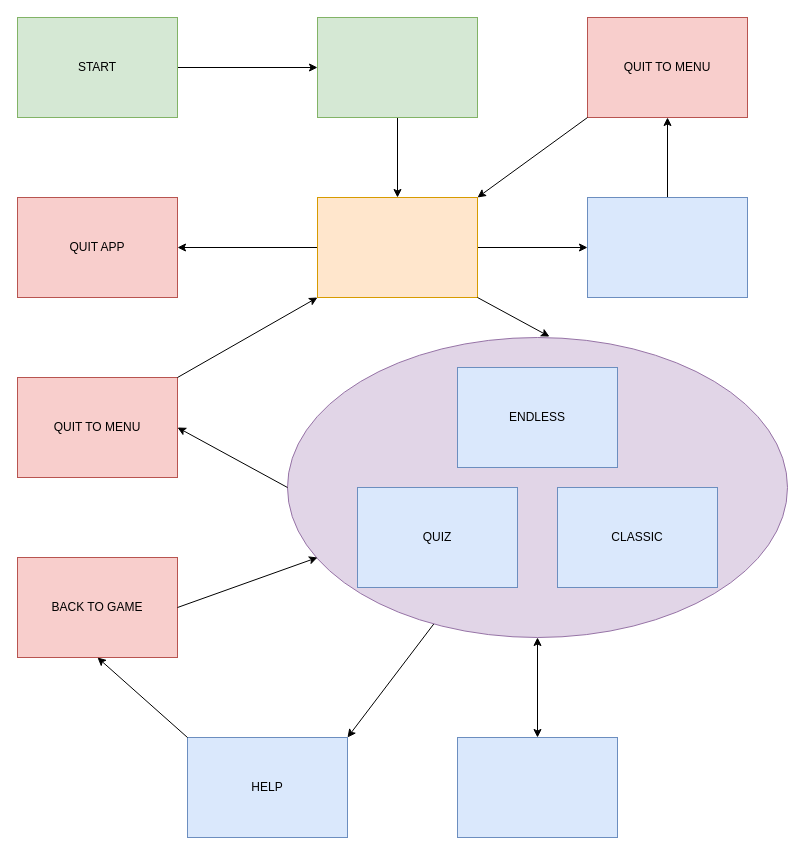
Some shapes in this 805 by 855 pixel diagram are drawn without their labels. The shapes that lost their labels are listed below. From the top down, each one's box as (x1, y1, x2, y2) in pixels, then its label:
(316, 16, 478, 118): INTRO
(316, 196, 478, 298): MENU
(586, 196, 748, 298): INFO
(456, 736, 618, 838): RETRY
